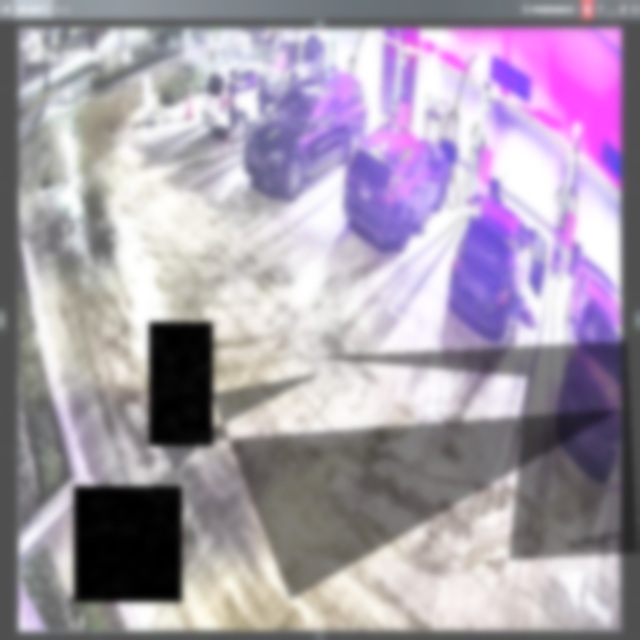Car: (242, 70, 368, 195), (449, 191, 547, 340), (345, 123, 448, 251)
